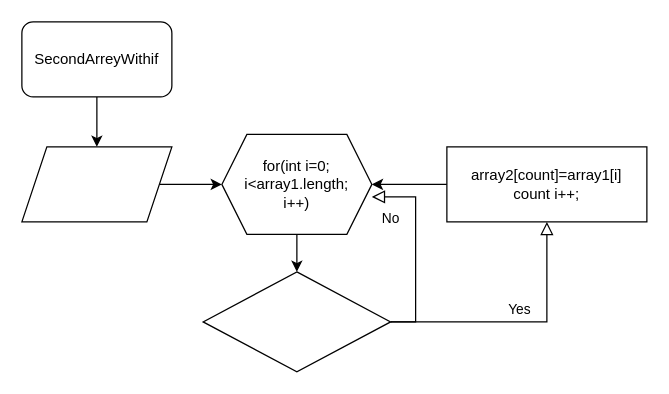
Some shapes in this 669 by 394 pixel diagram are drawn without their labels. Here are the shapes that lost their labels. From the top down, the centre of each, then its label:
At point 96,184: "string[]array 1 string[]array 2 int coint=0".
At point 296,321: "if (array 1[i].lengh<=3)".
